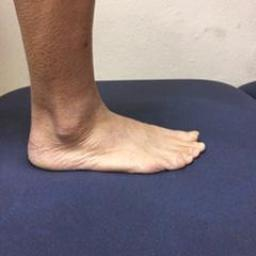Lateral View -Right Foot-: (23, 74, 207, 191)
